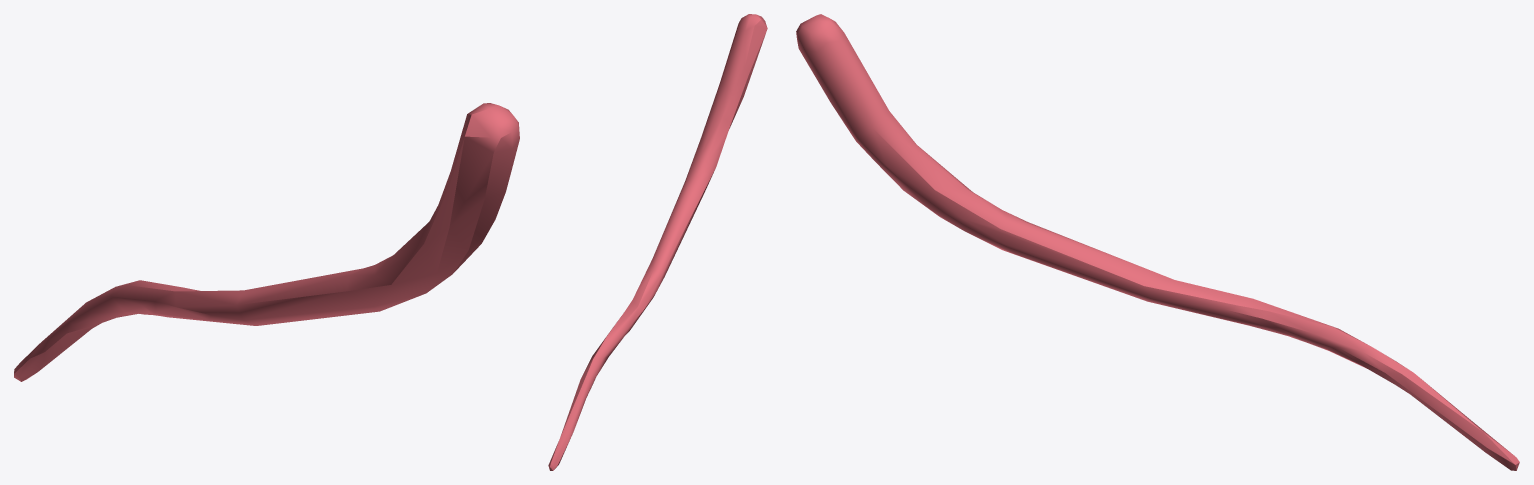
File: fma18809_fj3569.glb
3 views of the same model, side by side, from view 1: azimuth 30°, elevation 25°; view 2: azimuth 150°, elevation 25°; view 3: azimuth 270°, elevation 25° (orthographic). The views are drawn at different scales.
Visible parts, largest first — view 1: FMA18809_FJ3569; view 2: FMA18809_FJ3569; view 3: FMA18809_FJ3569.
Part boxes in pixels (bbox=[...]): FMA18809_FJ3569: bbox=[14, 103, 519, 381]; FMA18809_FJ3569: bbox=[548, 14, 767, 470]; FMA18809_FJ3569: bbox=[796, 14, 1519, 470].
Bounding box in the file's own units: 0.0088 × 0.0604 × 0.085.
